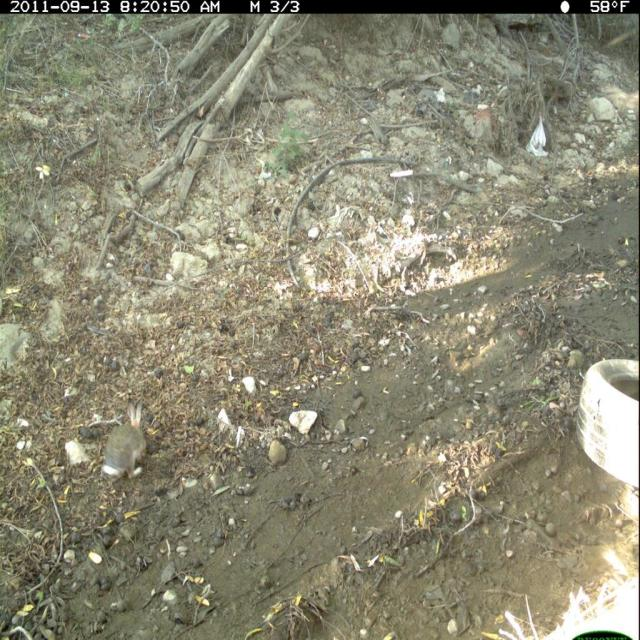rabbit: (99, 395, 150, 485)
